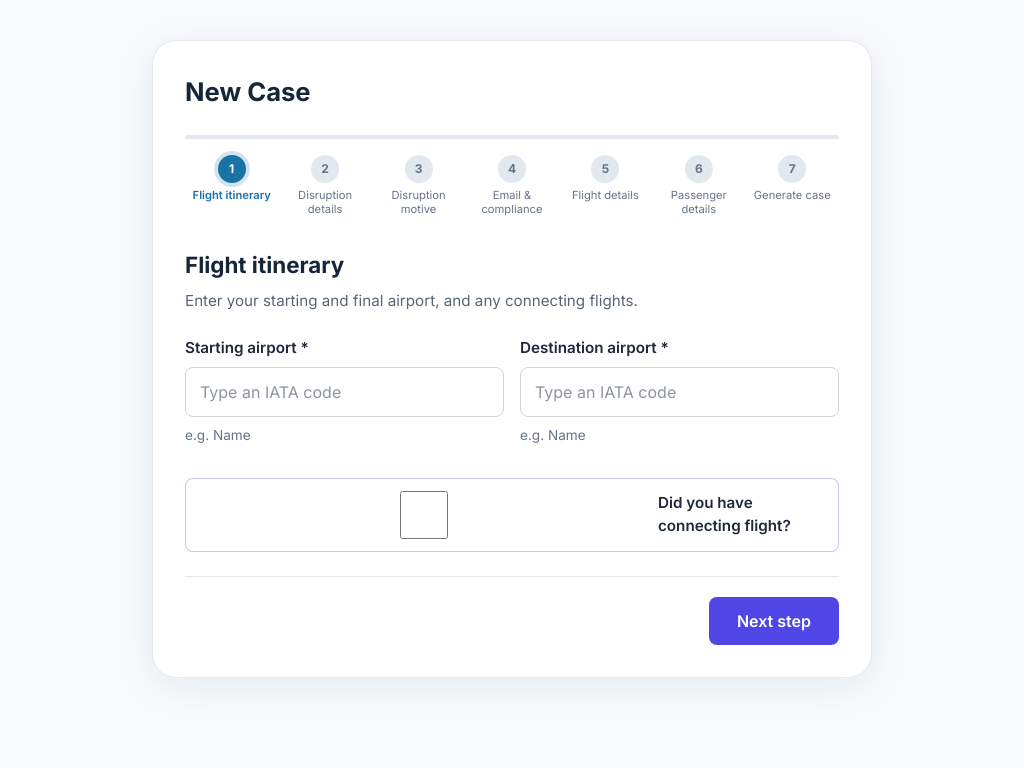
Flight itinerary behavior › loads airport suggestions through the API abstraction
Type "OT" into the field named "Starting airport *" at (344, 392), box [185,368,504,418]
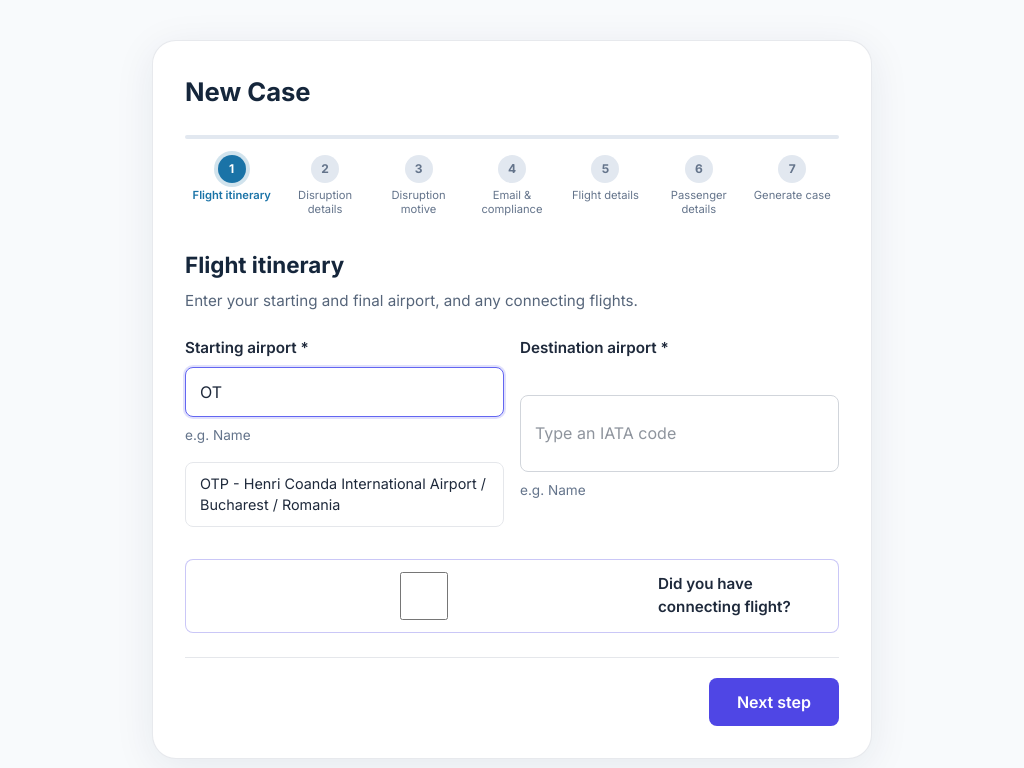
Check: the button "OTP - Henri Coanda International Airport / Bucharest / Romania" is shown, box [185,462,504,527]
